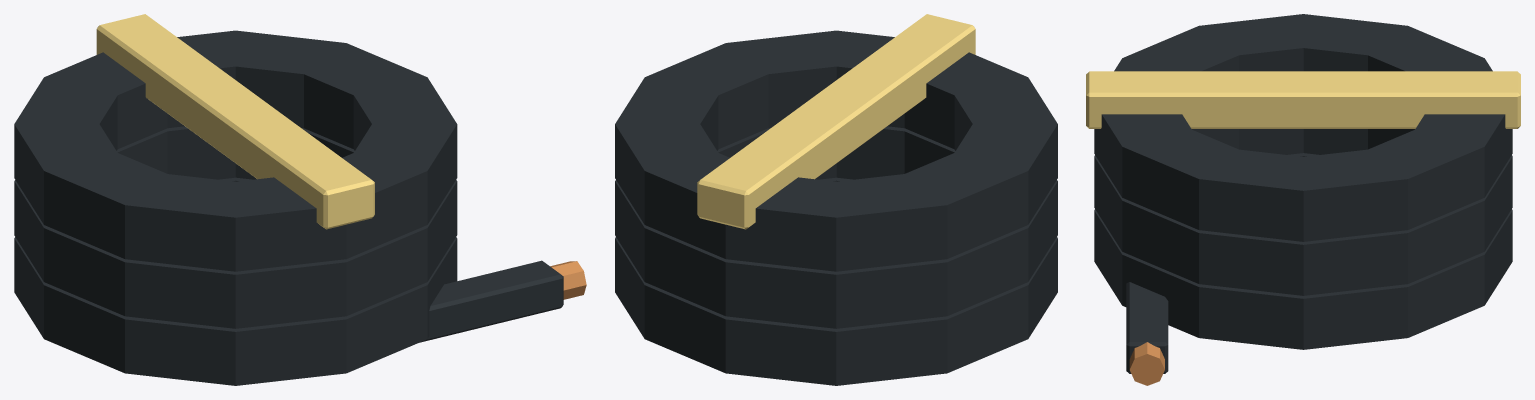
File: cable.glb
3 renders of one model, left to right at view 1: azimuth 30°, elevation 25°; view 2: azimuth 150°, elevation 25°; view 3: azimuth 270°, elevation 25°, orthographic. The views are drawn at different scales.
Visible parts, largest first — view 1: cable / Rubber and recesses, cable / Gold markings and contacts, cable / Copper; view 2: cable / Rubber and recesses, cable / Gold markings and contacts; view 3: cable / Rubber and recesses, cable / Gold markings and contacts, cable / Copper.
Part boxes in pixels (x1,y1,x2,y2): cable / Rubber and recesses: [14, 30, 563, 385]; cable / Gold markings and contacts: [96, 14, 374, 229]; cable / Copper: [550, 261, 586, 299]; cable / Rubber and recesses: [615, 30, 1057, 385]; cable / Gold markings and contacts: [697, 14, 975, 229]; cable / Rubber and recesses: [1094, 14, 1512, 373]; cable / Gold markings and contacts: [1086, 71, 1520, 128]; cable / Copper: [1129, 342, 1164, 385].
Size of the model in its own units: 0.3055 by 0.1265 by 0.27.
